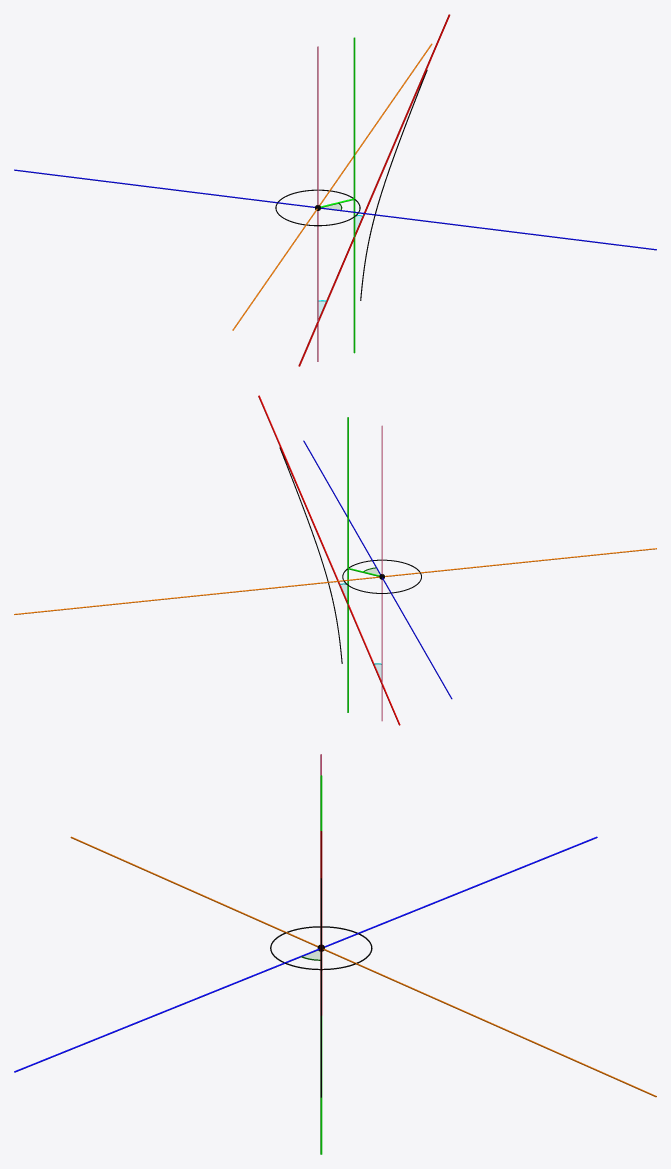
The model's file is col3d.dae.
3 renders of one model, top to bottom at view 1: azimuth 30°, elevation 25°; view 2: azimuth 150°, elevation 25°; view 3: azimuth 270°, elevation 25°, orthographic. The views are drawn at different scales.
Visible parts, largest first — view 1: n, g, h, l, f; view 2: l, h, g, f, n; view 3: l, n.
Part boxes in pixels (<box>): n: <box>14,169,656,250</box>; g: <box>353,37,355,353</box>; h: <box>298,14,450,366</box>; l: <box>232,43,432,330</box>; f: <box>317,46,318,361</box>; l: <box>14,548,656,614</box>; h: <box>258,395,400,725</box>; g: <box>347,417,348,712</box>; f: <box>381,425,382,721</box>; n: <box>303,440,452,699</box>; l: <box>70,836,656,1097</box>; n: <box>14,836,597,1072</box>.
Size of the model in its own units: 12.17 by 12.72 by 8.28.
